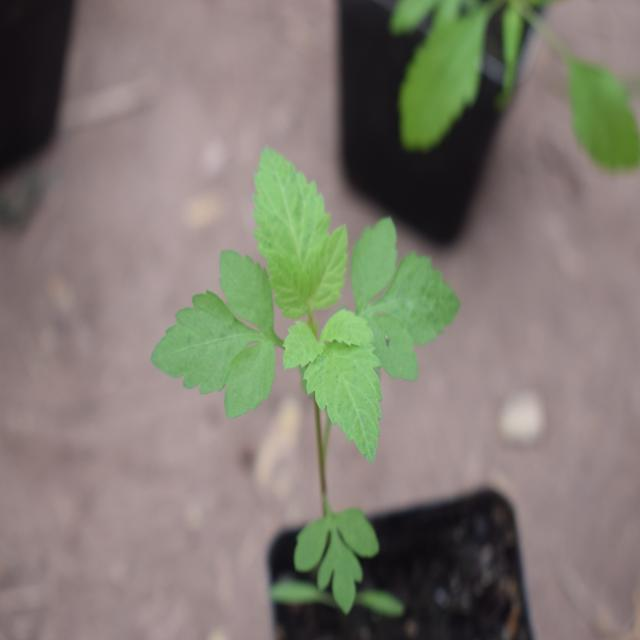Bidens pilosa: (156, 152, 459, 606)
